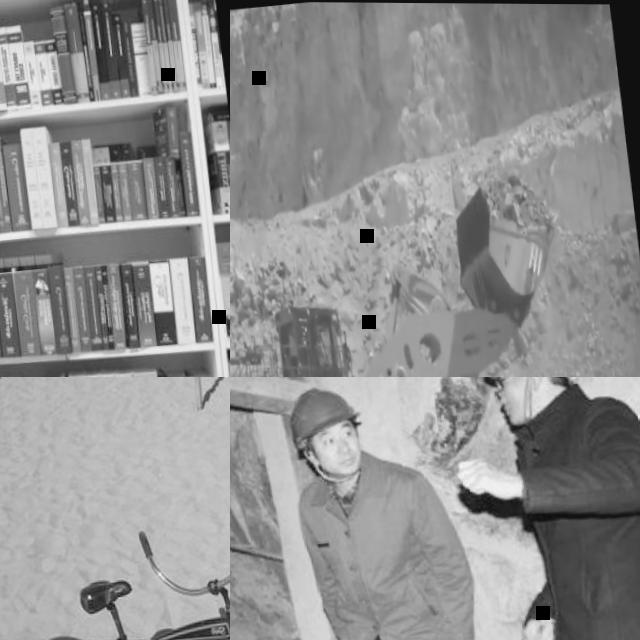Hardhat: (284, 379, 361, 446)
NO-Mask: (496, 382, 540, 420), (314, 442, 360, 474)
NO-Safety Vest: (509, 396, 640, 640), (294, 466, 434, 640)
Person: (278, 377, 491, 640), (440, 377, 640, 640)
vehicle: (230, 164, 599, 377)
